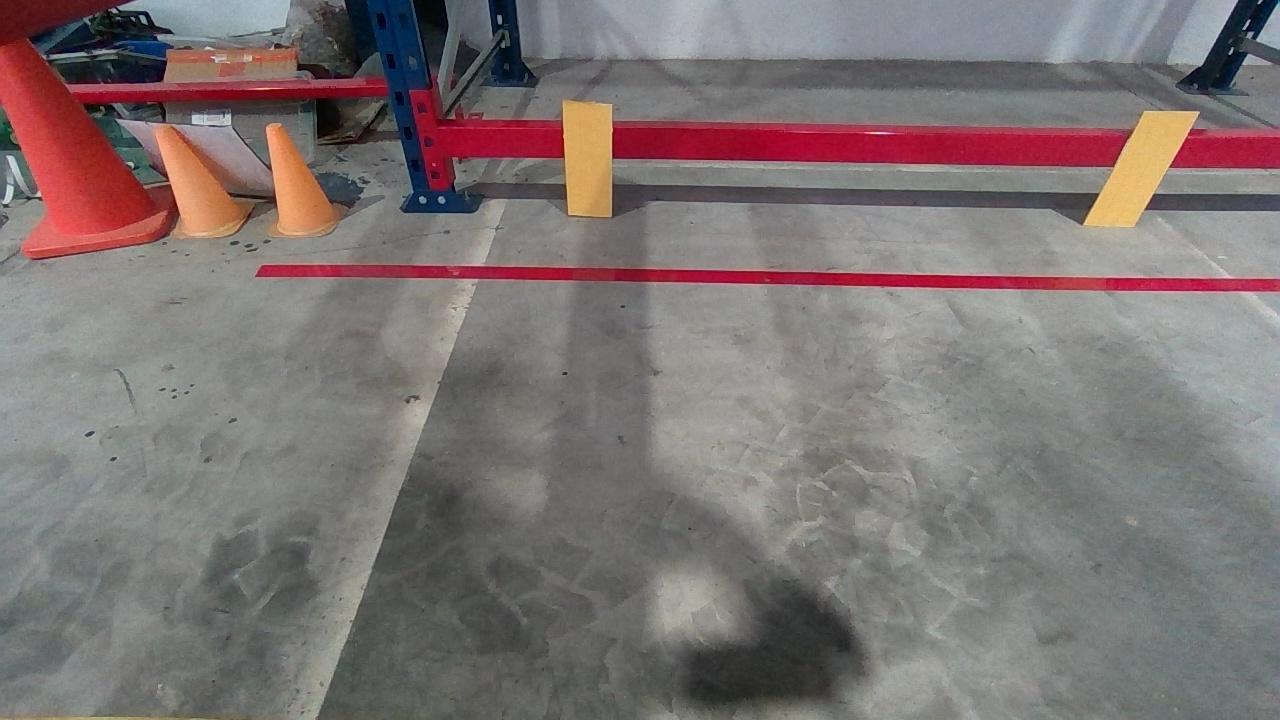h_rack: (447, 127, 1279, 169)
orange_strip: (1082, 108, 1202, 227), (560, 100, 612, 214)
red_line: (250, 261, 1279, 292)
